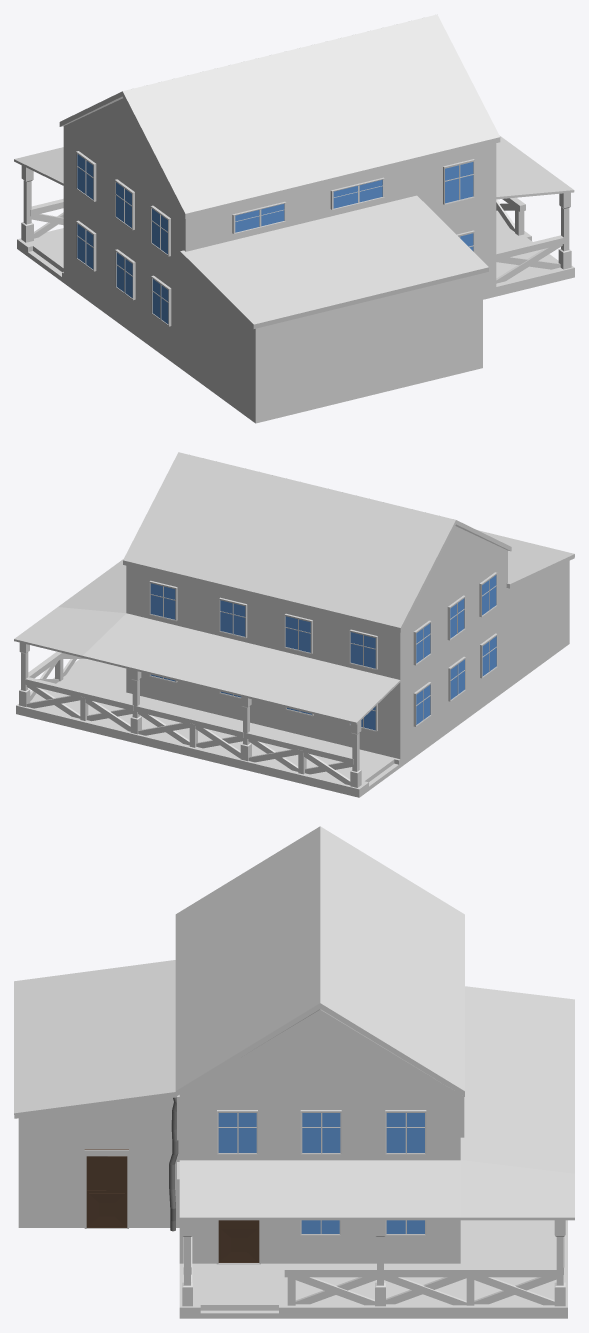
The model's file is Farmhouse_ext (3).fbx.
3 views of the same model, one above another, from view 1: azimuth 30°, elevation 25°; view 2: azimuth 150°, elevation 25°; view 3: azimuth 270°, elevation 25° (orthographic). The views are drawn at different scales.
Visible parts, largest first — view 1: Cube, Cube.058, Cube.055, Cube.056, Cube.052, Cube.053, Cube.054, Cube.019, Cube.018, Cube.020, Cube.009, Cube.012 (+2 smaller); view 2: Cube, Cube.062, Cube.015, Cube.013, Cube.014, Cube.039, Cube.051, Cube.040, Cube.020, Cube.019, Cube.018, Cube.052 (+6 smaller); view 3: Cube, Cube.006, Cube.021, Cube.007, Cube.003, Cube.063, Cube.005, Cube.030, Cube.001, Cylinder, Cube.009, Cube.008 (+5 smaller).
Part boxes in pixels (x1=…): Cube: x1=14, y1=14, x2=574, y2=423; Cube.058: x1=443, y1=159, x2=474, y2=204; Cube.055: x1=330, y1=177, x2=384, y2=209; Cube.056: x1=232, y1=201, x2=286, y2=233; Cube.052: x1=150, y1=205, x2=170, y2=256; Cube.053: x1=115, y1=249, x2=135, y2=300; Cube.054: x1=151, y1=275, x2=171, y2=326; Cube.019: x1=76, y1=220, x2=96, y2=271; Cube.018: x1=76, y1=151, x2=96, y2=201; Cube.020: x1=115, y1=179, x2=134, y2=230; Cube.009: x1=558, y1=192, x2=571, y2=269; Cube.012: x1=21, y1=165, x2=33, y2=242; Cube: x1=14, y1=452, x2=574, y2=797; Cube.062: x1=149, y1=580, x2=177, y2=621; Cube.015: x1=349, y1=629, x2=377, y2=669; Cube.013: x1=219, y1=597, x2=247, y2=638; Cube.014: x1=284, y1=613, x2=312, y2=654; Cube.039: x1=24, y1=677, x2=133, y2=710; Cube.051: x1=136, y1=704, x2=243, y2=737; Cube.040: x1=246, y1=731, x2=353, y2=764; Cube.020: x1=447, y1=595, x2=465, y2=640; Cube.019: x1=413, y1=682, x2=431, y2=726; Cube.018: x1=413, y1=620, x2=431, y2=665; Cube.052: x1=479, y1=572, x2=497, y2=617; Cube: x1=14, y1=826, x2=574, y2=1318; Cube.006: x1=84, y1=1149, x2=128, y2=1228; Cube.021: x1=383, y1=1266, x2=556, y2=1277; Cube.007: x1=216, y1=1220, x2=260, y2=1264; Cube.003: x1=385, y1=1110, x2=426, y2=1154; Cube.063: x1=300, y1=1110, x2=341, y2=1154; Cube.005: x1=217, y1=1110, x2=257, y2=1154; Cube.030: x1=284, y1=1266, x2=378, y2=1277; Cube.001: x1=554, y1=1220, x2=565, y2=1306; Cylinder: x1=169, y1=1097, x2=178, y2=1231; Cube.009: x1=182, y1=1220, x2=192, y2=1306; Cube.008: x1=375, y1=1220, x2=385, y2=1306.
Size of the model in its own units: 1183 by 682 by 1271.
